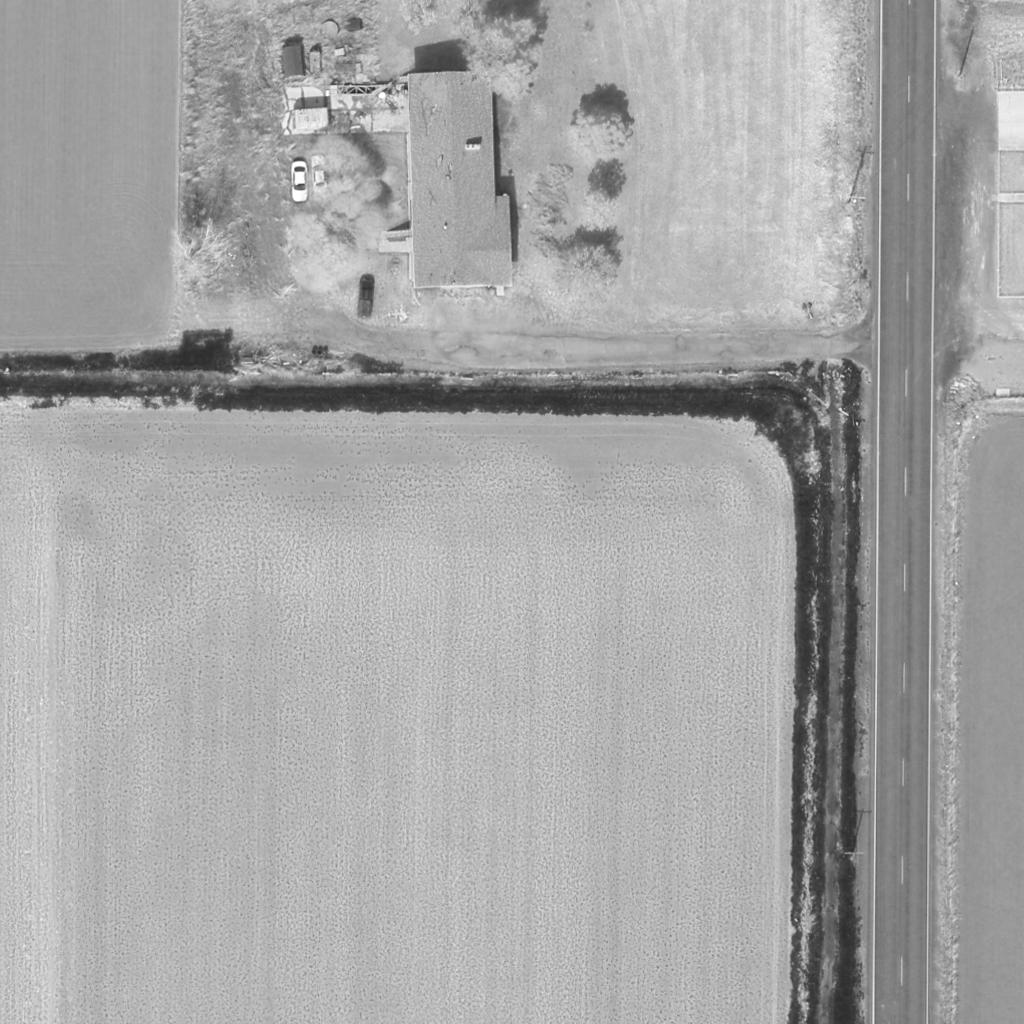vehicle: (357, 274, 377, 320), (290, 159, 308, 203), (311, 154, 329, 192)
